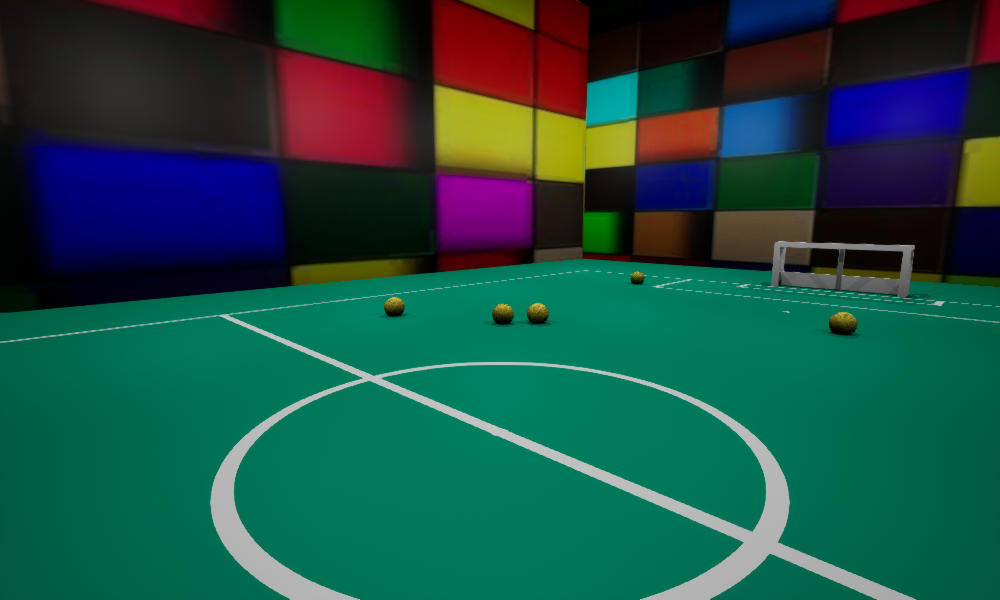b: (829, 312, 857, 334), (527, 303, 548, 323), (492, 303, 513, 323), (384, 297, 404, 315), (630, 271, 644, 283)
g: (771, 241, 914, 297)
